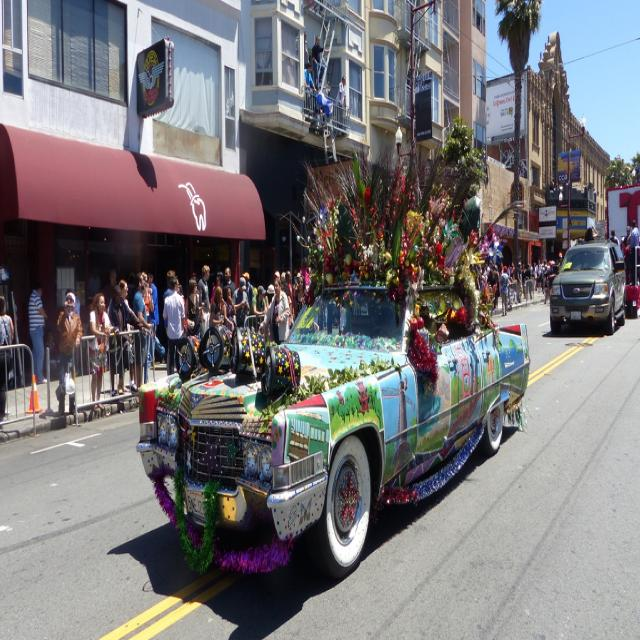car: (546, 241, 626, 334)
